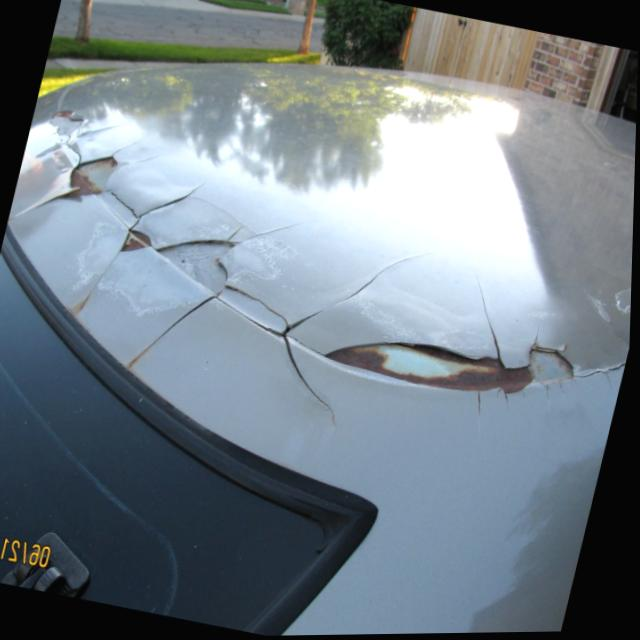Paint-Crack: (69, 177, 419, 429), (318, 273, 627, 419), (7, 106, 162, 229)
Paint-fading: (610, 284, 631, 315)
Rust: (319, 341, 539, 403), (34, 150, 120, 207), (116, 224, 152, 254), (50, 106, 73, 118)
